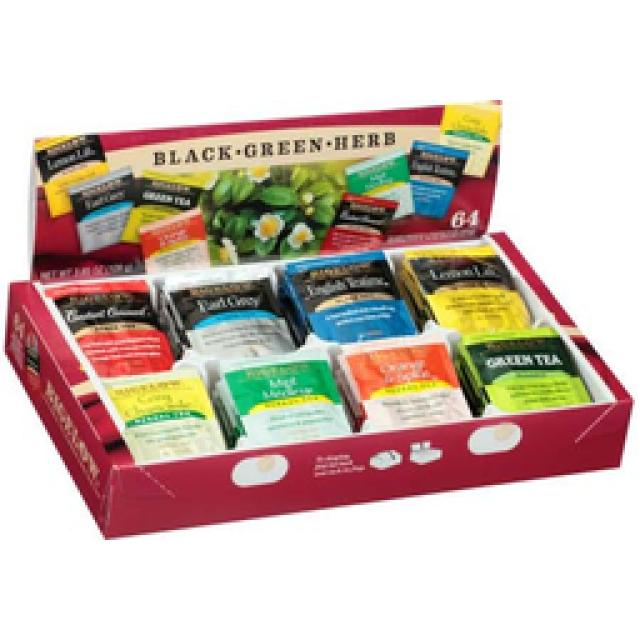tea-bags: (318, 103, 500, 254), (34, 132, 210, 274), (44, 279, 176, 377), (336, 337, 474, 430), (210, 357, 351, 448), (283, 252, 420, 342), (454, 329, 595, 413), (399, 248, 534, 335), (104, 367, 226, 460), (163, 279, 299, 360)
